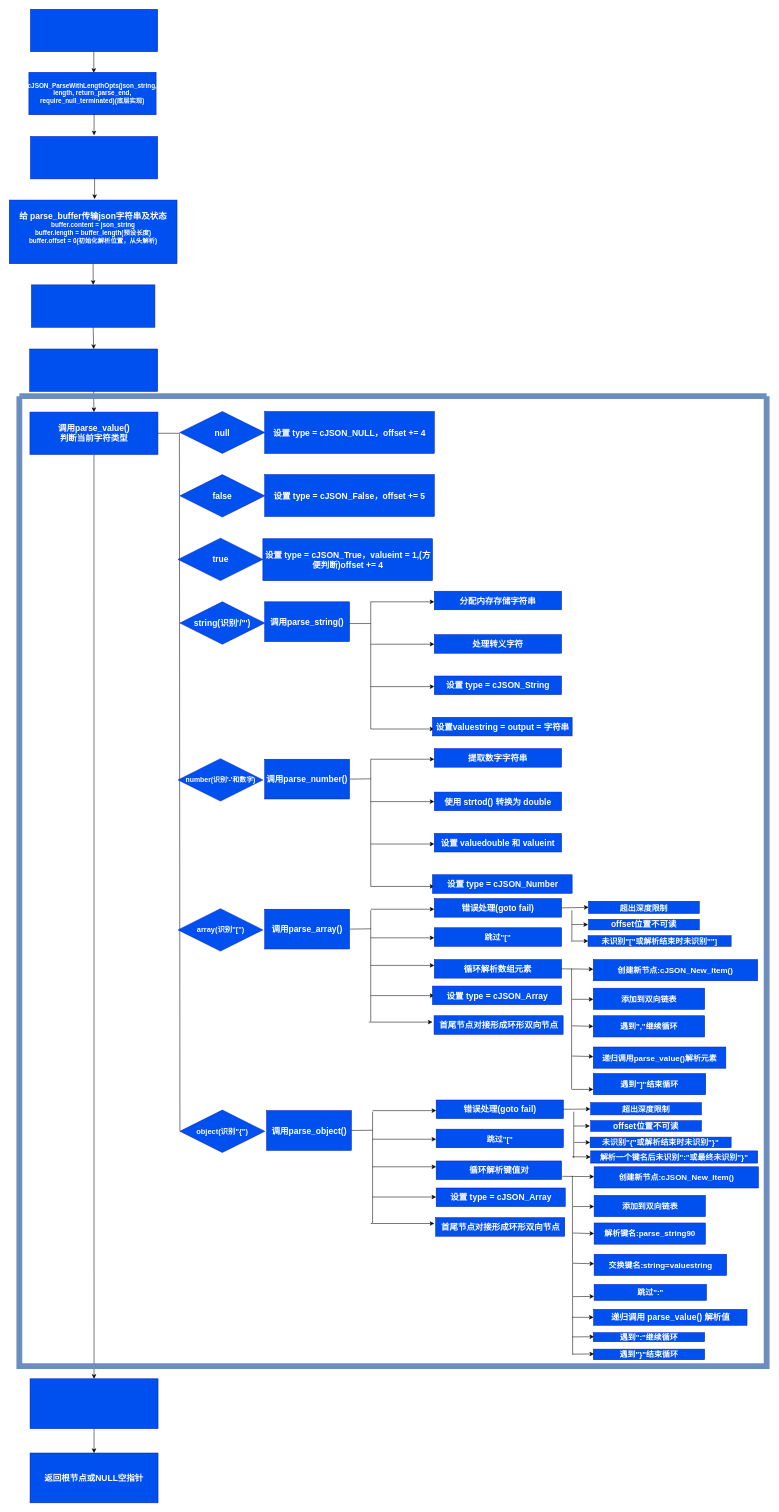
Image size: 779x1512. Some labels were removed from this diagram. The shapes that lost their labels are listed below. From the top down, each one's centre as x and y in pixels, then its label:
point 94,30: cJSON_Parse(json_string)(简易接口)
point 94,157: 初始化 parse_buffer
point 93,305: 创建根节点 item (调用cJSON_New_item()，含钩子重载内存处理)
point 93,369: 跳过 UTF-8 BOM 和空白字符
point 94,1403: 判断是否有"/0"，是否需要NULL
